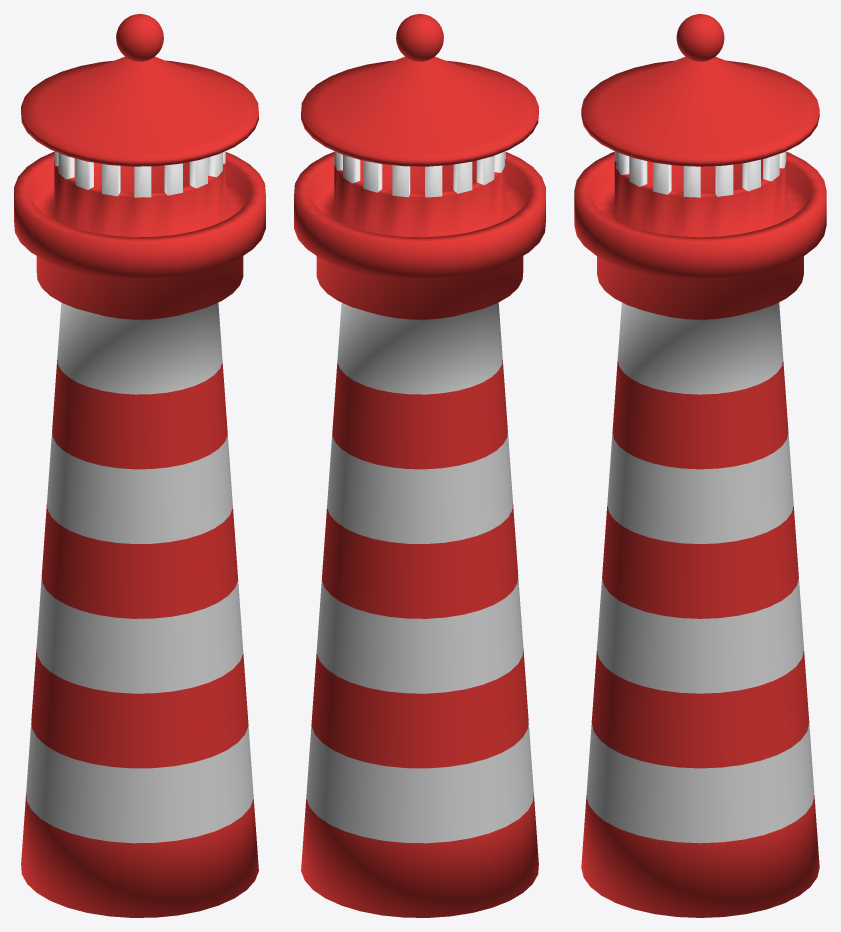
File: phare.glb
3 views of the same model, side by side, from view 1: azimuth 30°, elevation 25°; view 2: azimuth 150°, elevation 25°; view 3: azimuth 270°, elevation 25° (orthographic).
Parts seen in each view (by area): view 1: Cylindre, Cylindre.001, Sphère; view 2: Cylindre, Cylindre.001, Sphère; view 3: Cylindre, Cylindre.001, Sphère.
Part boxes in pixels (<box>): Cylindre: <box>14,151,265,917</box>; Cylindre.001: <box>21,56,258,166</box>; Sphère: <box>116,14,163,61</box>; Cylindre: <box>294,151,545,917</box>; Cylindre.001: <box>301,56,538,166</box>; Sphère: <box>396,14,443,61</box>; Cylindre: <box>574,151,826,917</box>; Cylindre.001: <box>581,56,819,166</box>; Sphère: <box>676,14,724,61</box>.
Size of the model in its own units: 2.12 by 7.88 by 2.12.
